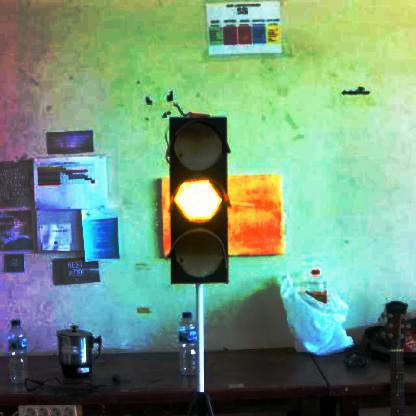Traffic Light -Yellow-: (169, 117, 229, 282)
